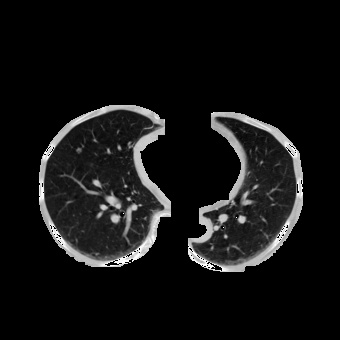PN: (76, 147, 82, 153)
